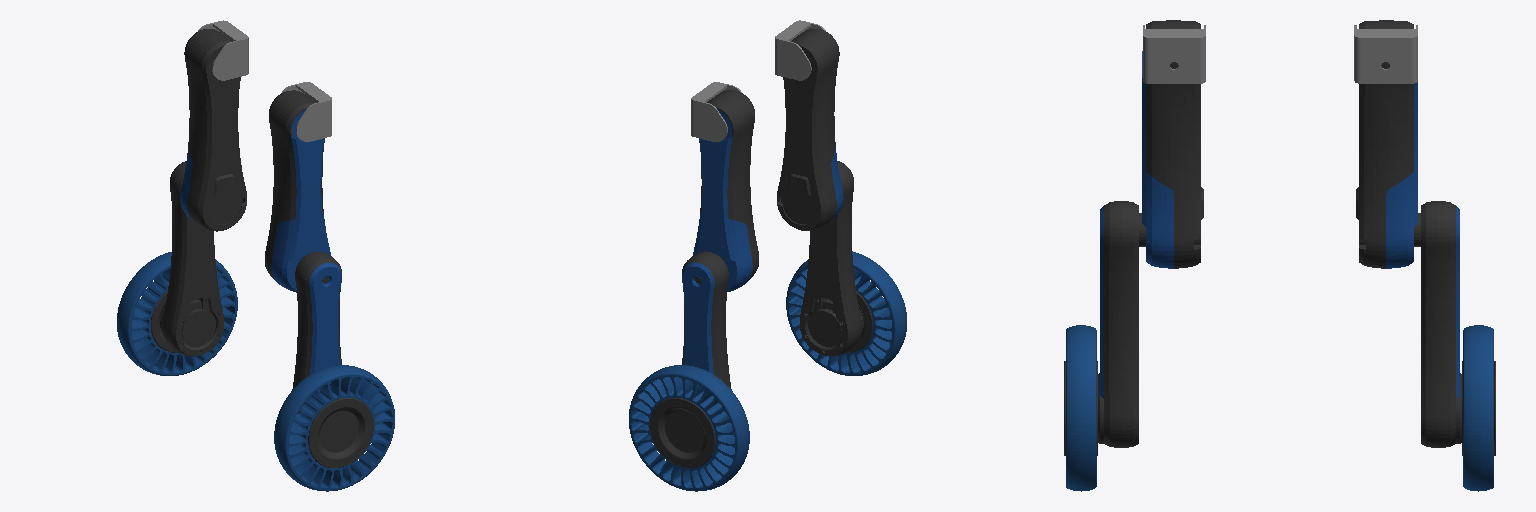
URDF robot description (v3):
<?xml version="1.0" encoding="utf-8"?>
<robot name="v3" xmlns:xacro="http://www.ros.org/wiki/xacro">

<!-- =================================================== v3 =================================================== -->

  <link name="base_link">
    <inertial>
      <origin
        xyz="0.00743277 -0.00031002 0.0824108" rpy="0 0 0" />
      <mass
        value="4.6" />
      <inertia
        ixx="0.03542461"
        ixy="-5.543E-05"
        ixz="0.00267146"
        iyy="0.04154315"
        iyz="2.215E-05"
        izz="0.04752478" />
    </inertial>
    <visual>
        <origin xyz="0 0 0" rpy="0 0 0" />
        <geometry>
          <mesh filename="package://v3/meshes/base_link.dae" scale="1 1 1" />
        </geometry>
    </visual>
    <collision>
      <origin xyz="-0.005 0 0.05" rpy="0 0 0" />
      <geometry>
        <box size="0.23 0.08 0.12"/>
      </geometry>
    </collision>
    <collision>
      <origin xyz="-0.015 0 0.13" rpy="0 0 0" />
      <geometry>
        <box size="0.29 0.145 0.04"/>
      </geometry>
    </collision>
    <collision>
      <origin xyz="0 0 0.17" rpy="0 0 0" />
      <geometry>
        <box size="0.13 0.13 0.04"/>
      </geometry>
    </collision>
    <collision>
      <origin xyz="0.0864 -0.1208 0.043" rpy="0 1.57 0" />
      <geometry>
        <cylinder length="0.05" radius="0.045"/>
      </geometry>
    </collision>
    <collision>
      <origin xyz="0.0864 0.1208 0.043" rpy="0 1.57 0" />
      <geometry>
        <cylinder length="0.05" radius="0.045"/>
      </geometry>
    </collision>
  </link>

  <link name="hip_thigh_conn_r">
    <inertial>
      <origin
        xyz="-0.01563098 0.00040205 0.01402603" rpy="0 0 0" />
      <mass
        value="0.24" />
      <inertia
        ixx="0.00024193"
        ixy="-7.054E-09"
        ixz="-1.349E-05"
        iyy="0.00013104"
        iyz="6.889E-09"
        izz="0.00022826" />
    </inertial>
    <visual>
        <origin xyz="0 0 0" rpy="0 0 0" />
        <geometry>
          <mesh filename="package://v3/meshes/hip_thigh_conn.dae" scale="1 1 1" />
        </geometry>
    </visual>
  </link>

  <link name="hip_thigh_conn_l">
    <inertial>
      <origin
        xyz="-0.01563098 0.00040205 0.01402603" rpy="0 0 0" />
      <mass
        value="0.24" />
      <inertia
        ixx="0.00024193"
        ixy="-7.054E-09"
        ixz="-1.349E-05"
        iyy="0.00013104"
        iyz="6.889E-09"
        izz="0.00022826" />
    </inertial>
    <visual>
        <origin xyz="0 0 0" rpy="0 0 0" />
        <geometry>
          <mesh filename="package://v3/meshes/hip_thigh_conn.dae" scale="1 1 1" />
        </geometry>
    </visual>
  </link>

  <link name="thigh_r">
    <inertial>
      <origin
        xyz="-5.792E-05 -0.03537558 -0.12551777" rpy="0 0 0" />
      <mass
        value="1.52" />
      <inertia
        ixx="0.01435771"
        ixy="1.027E-06"
        ixz="-3.292E-06"
        iyy="0.01442563"
        iyz="-0.00012097"
        izz="0.00123446" />
    </inertial>
    <visual>
        <origin xyz="0 0 0" rpy="0 0 0" />
        <geometry>
          <mesh filename="package://v3/meshes/thigh_r.dae" scale="1 1 1" />
        </geometry>
    </visual>
    <collision>
      <origin xyz="0 -0.0367 -0.114" rpy="0 0 0" />
      <geometry>
        <box size="0.064 0.0675 0.288"/>
      </geometry>
    </collision>
  </link>

  <link name="thigh_l">
    <inertial>
      <origin
        xyz="-5.792E-05 0.03537558 -0.12551777" rpy="0 0 0" />
      <mass
        value="1.52" />
      <inertia
        ixx="0.01435771"
        ixy="-1.027E-06"
        ixz="-3.292E-06"
        iyy="0.01442563"
        iyz="0.00012097"
        izz="0.00123446" />
    </inertial>
    <visual>
        <origin xyz="0 0 0" rpy="0 0 0" />
        <geometry>
          <mesh filename="package://v3/meshes/thigh_l.dae" scale="1 1 1" />
        </geometry>
    </visual>
    <collision>
      <origin xyz="0 0.0367 -0.114" rpy="0 0 0" />
      <geometry>
        <box size="0.064 0.0675 0.288"/>
      </geometry>
    </collision>
  </link>

  <link name="calf_r">
    <inertial>
      <origin
        xyz="-7.004E-06 -0.02411355 -0.15971539" rpy="0 0 0" />
      <mass
        value="0.91" />
      <inertia
        ixx="0.00709488"
        ixy="-3.308E-08"
        ixz="9.130E-07"
        iyy="0.0073161"
        iyz="-0.0001678"
        izz="0.00050667" />
    </inertial> 
    <visual>
        <origin xyz="0 0 0" rpy="0 0 0" />
        <geometry>
          <mesh filename="package://v3/meshes/calf_r.dae" scale="1 1 1" />
        </geometry>
    </visual>
    <collision>
      <origin xyz="0 -0.0223 -0.1175" rpy="0 0 0" />
      <geometry>
        <box size="0.07 0.0445 0.295"/>
      </geometry>
    </collision>
  </link>

  <link name="calf_l">
    <inertial>
      <origin
        xyz="-7.004E-06 0.02411355 -0.15971539" rpy="0 0 0" />
      <mass
        value="0.91" />
      <inertia
        ixx="0.00709488"
        ixy="3.308E-08"
        ixz="9.130E-07"
        iyy="0.0073161"
        iyz="0.0001678"
        izz="0.00050667" />
    </inertial>
    <visual>
        <origin xyz="0 0 0" rpy="0 0 0" />
        <geometry>
          <mesh filename="package://v3/meshes/calf_l.dae" scale="1 1 1" />
        </geometry>
    </visual>
    <collision>
      <origin xyz="0 0.0223 -0.1175" rpy="0 0 0" />
      <geometry>
        <box size="0.07 0.0445 0.295"/>
      </geometry>
    </collision>
  </link>

  <link name="wheel_r">
    <inertial>
      <origin
        xyz="0 -0.0101505 0" rpy="0 0 0" />
      <mass
        value="0.49" />
      <inertia
        ixx="0.00104471"
        ixy="0"
        ixz="0"
        iyy="0.00199485"
        iyz="0"
        izz="0.00104471" />
    </inertial>
    <visual>
        <origin xyz="0 0 0" rpy="0 0 0" />
        <geometry>
          <mesh filename="package://v3/meshes/wheel_r.dae" scale="1 1 1" />
        </geometry>
    </visual>
    <collision>
      <origin xyz="0 -0.0097 0" rpy="1.57 0 0" />
      <geometry>
        <cylinder length="0.035" radius="0.0925"/>
      </geometry>
    </collision>
  </link>

  <link name="wheel_l">
    <inertial>
      <origin
        xyz="0 0.0101505 0" rpy="0 0 0" />
      <mass
        value="0.49" />
      <inertia
        ixx="0.00104471"
        ixy="0"
        ixz="0"
        iyy="0.00199485"
        iyz="0"
        izz="0.00104471" />
    </inertial>
    <visual>
        <origin xyz="0 0 0" rpy="0 0 0" />
        <geometry>
          <mesh filename="package://v3/meshes/wheel_l.dae" scale="1 1 1" />
        </geometry>
    </visual>
    <collision>
      <origin xyz="0 0.0097 0" rpy="1.57 0 0" />
      <geometry>
        <cylinder length="0.035" radius="0.0925"/>
      </geometry>
    </collision>
  </link>

  <joint name="hip_r_joint" type="revolute">
    <parent link="base_link"/>
    <child link="hip_thigh_conn_r"/>
    <origin xyz="0.0303 -0.1208 0.04299" rpy="0 0 0"/>
    <axis xyz="1 0 0"/>
    <limit
      lower="-1.0472"
      upper="0.6108"
      effort="0"
      velocity="0" />
  </joint>

  <joint name="thigh_r_joint" type="revolute">
    <parent link="hip_thigh_conn_r"/>
    <child link="thigh_r"/>
    <origin xyz="-0.04 0.034 0" rpy="0 0 0"/>
    <axis xyz="0 1 0"/>
    <limit
      lower="0"
      upper="1.74533"
      effort="0"
      velocity="0" />
  </joint>

  <joint name="calf_r_joint" type="revolute">
    <parent link="thigh_r"/>
    <child link="calf_r"/>
    <origin xyz="0 -0.0741 -0.225" rpy="0 0 0"/>
    <axis xyz="0 1 0"/>
    <limit
      lower="-3.229"
      upper="0"
      effort="0"
      velocity="0" />
  </joint>

  <joint name="wheel_r_joint" type="revolute">
    <parent link="calf_r"/>
    <child link="wheel_r"/>
    <origin xyz="0 -0.0563 -0.225" rpy="0 0 0"/>
    <axis xyz="0 1 0"/>
    <limit
      effort="11.0"
      velocity="15.708" />
  </joint>

  <joint name="hip_l_joint" type="revolute">
    <parent link="base_link"/>
    <child link="hip_thigh_conn_l"/>
    <origin xyz="0.0303 0.1208 0.04299" rpy="0 0 0"/>
    <axis xyz="1 0 0"/>
    <limit
      lower="-0.6108"
      upper="1.0472"
      effort="0"
      velocity="0" />
  </joint>

  <joint name="thigh_l_joint" type="revolute">
    <parent link="hip_thigh_conn_l"/>
    <child link="thigh_l"/>
    <origin xyz="-0.04 -0.034 0" rpy="0 0 0"/>
    <axis xyz="0 1 0"/>
    <limit
      lower="0"
      upper="1.74533"
      effort="0"
      velocity="0" />
  </joint>

  <joint name="calf_l_joint" type="revolute">
    <parent link="thigh_l"/>
    <child link="calf_l"/>
    <origin xyz="0 0.0741 -0.225" rpy="0 0 0"/>
    <axis xyz="0 1 0"/>
    <limit
      lower="-3.229"
      upper="0"
      effort="0"
      velocity="0" />
  </joint>

  <joint name="wheel_l_joint" type="revolute">
    <parent link="calf_l"/>
    <child link="wheel_l"/>
    <origin xyz="0 0.0563 -0.225" rpy="0 0 0"/>
    <axis xyz="0 1 0"/>
    <limit
      effort="11.0"
      velocity="15.708" />
  </joint>
</robot>

--- Render facts (derived) ---
The picture shows the robot from 3 angles, left to right: view 1: azimuth 30°, elevation 25°; view 2: azimuth 150°, elevation 25°; view 3: azimuth 270°, elevation 25°; orthographic projection.
Robot: v3 — 9 links, 8 joints (8 revolute); root link base_link; default pose: every joint at zero.
Links seen in each view (by area): view 1: wheel_r, thigh_l, thigh_r, calf_l, wheel_l, calf_r, hip_thigh_conn_l, hip_thigh_conn_r; view 2: wheel_l, thigh_r, thigh_l, calf_r, wheel_r, calf_l, hip_thigh_conn_l, hip_thigh_conn_r; view 3: thigh_r, thigh_l, calf_r, calf_l, wheel_r, wheel_l, hip_thigh_conn_l, hip_thigh_conn_r.
Boxes of the visible links, x1,y1,x2,y2 form: wheel_r: (274, 365, 394, 491); thigh_l: (180, 29, 246, 231); thigh_r: (265, 90, 330, 292); calf_l: (160, 161, 223, 356); wheel_l: (117, 252, 237, 375); calf_r: (292, 252, 341, 413); hip_thigh_conn_l: (198, 20, 248, 80); hip_thigh_conn_r: (282, 82, 331, 141); wheel_l: (629, 365, 749, 491); thigh_r: (777, 29, 843, 230); thigh_l: (693, 90, 758, 291); calf_r: (800, 161, 863, 356); wheel_r: (786, 251, 906, 375); calf_l: (682, 251, 731, 413); hip_thigh_conn_l: (691, 82, 741, 141); hip_thigh_conn_r: (775, 20, 825, 80); thigh_r: (1139, 20, 1203, 268); thigh_l: (1356, 20, 1420, 268); calf_r: (1098, 201, 1138, 447); calf_l: (1421, 201, 1461, 447); wheel_r: (1064, 325, 1097, 491); wheel_l: (1462, 325, 1495, 491); hip_thigh_conn_l: (1354, 25, 1417, 83); hip_thigh_conn_r: (1143, 25, 1205, 83).
Size in the robot's own frame: 0.19 by 0.494 by 0.5805 metres.
8 mesh visuals loaded from 8 distinct referenced files (7 Collada DAE); not drawn: 1 (reference not matched to a file when rendering).
